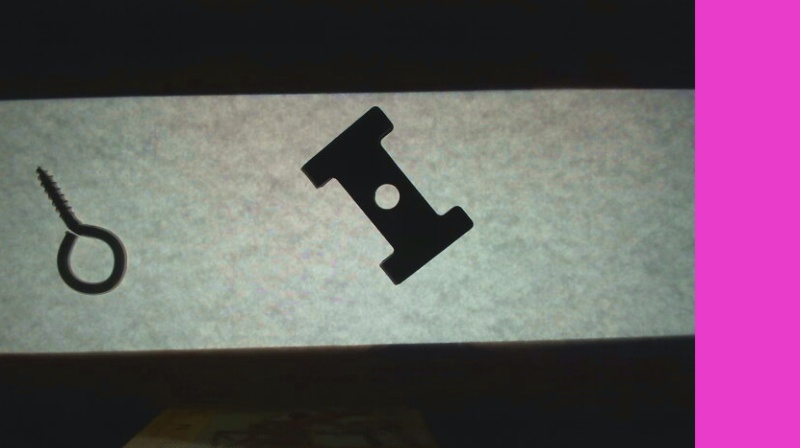O001: (30, 160, 130, 294)
O002: (294, 102, 473, 286)
